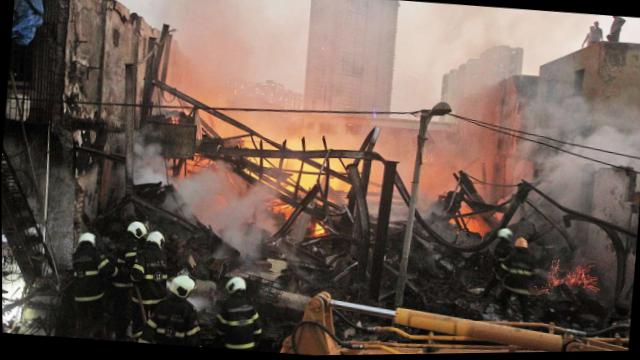fire: (256, 139, 344, 186)
smoke: (174, 0, 555, 86), (174, 49, 493, 123), (490, 72, 639, 195), (388, 109, 496, 201), (224, 176, 285, 259), (172, 170, 233, 227), (124, 133, 165, 193)
